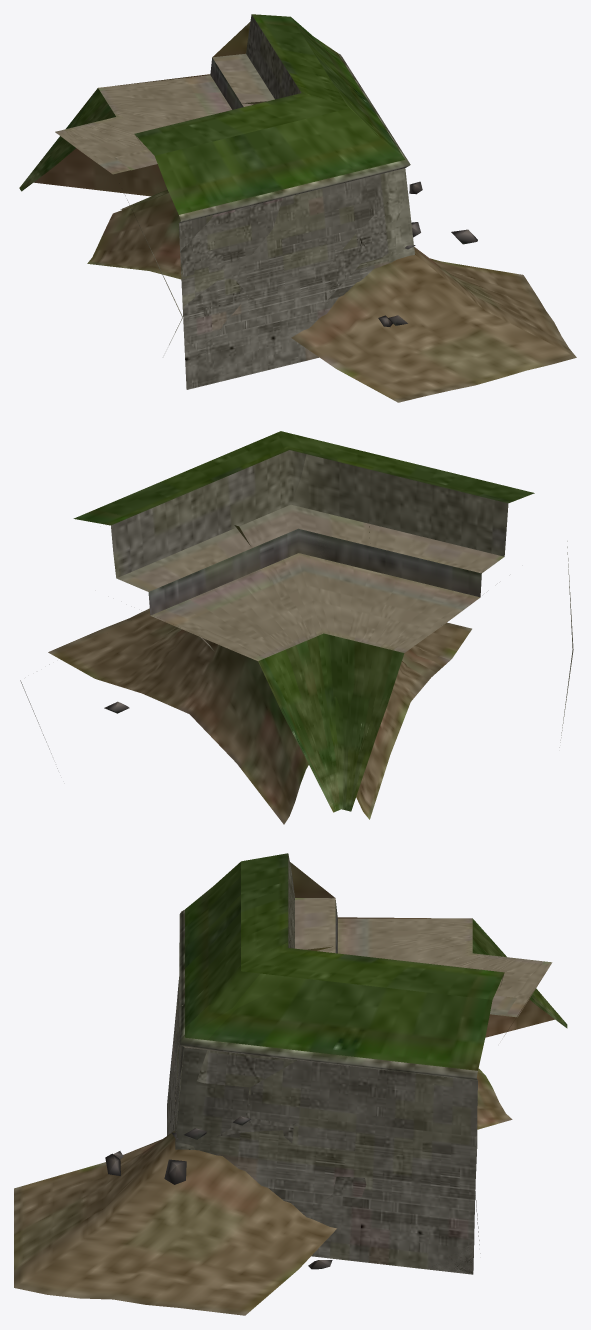
The model's file is starfort_bastion_shoulder_a75_live.glb.
3 renders of one model, top to bottom at view 1: azimuth 30°, elevation 25°; view 2: azimuth 150°, elevation 25°; view 3: azimuth 270°, elevation 25°, orthographic. The views are drawn at different scales.
Visible parts, largest first — view 1: breached, intact, cracked, endcap_b; view 2: breached, intact, cracked; view 3: intact, breached, cracked, endcap_a.
Boxes of the visible parts, left/top/right/bottom form: breached: left=34, top=14, right=576, bottom=402; intact: left=21, top=14, right=414, bottom=389; cracked: left=19, top=15, right=414, bottom=359; endcap_b: left=115, top=22, right=341, bottom=85; breached: left=48, top=457, right=532, bottom=824; intact: left=74, top=431, right=534, bottom=809; cracked: left=75, top=433, right=533, bottom=812; intact: left=167, top=853, right=567, bottom=1274; breached: left=14, top=854, right=567, bottom=1315; cracked: left=171, top=854, right=561, bottom=1274; endcap_a: left=180, top=862, right=430, bottom=918.
Size of what is drawn, in the model's own units: 11.07 by 6.25 by 12.52.
1 material, 1 textured.
